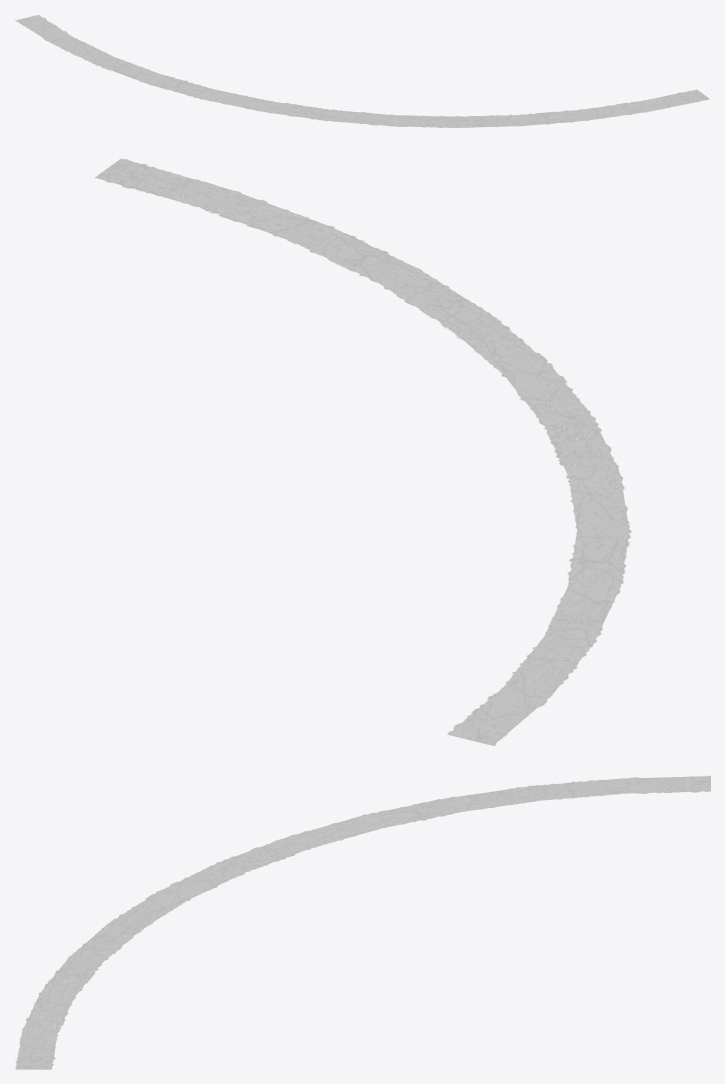
File: Sidewalk_Corner_Round_3m_Stripe.glb
The picture shows the model from 3 angles, top to bottom: view 1: azimuth 30°, elevation 25°; view 2: azimuth 150°, elevation 25°; view 3: azimuth 270°, elevation 25°; orthographic projection. The views are drawn at different scales.
Visible parts, largest first — view 1: Sidewalk_Corner_Round_3m_Stripe; view 2: Sidewalk_Corner_Round_3m_Stripe; view 3: Sidewalk_Corner_Round_3m_Stripe.
Boxes of the visible parts, left/top/right/bottom form: Sidewalk_Corner_Round_3m_Stripe: left=15, top=15, right=709, bottom=127; Sidewalk_Corner_Round_3m_Stripe: left=95, top=159, right=631, bottom=745; Sidewalk_Corner_Round_3m_Stripe: left=15, top=776, right=710, bottom=1069.
Bounding box in the file's own units: 3.4 × 0 × 3.4.
Materials: 1 (1 with a texture image).
